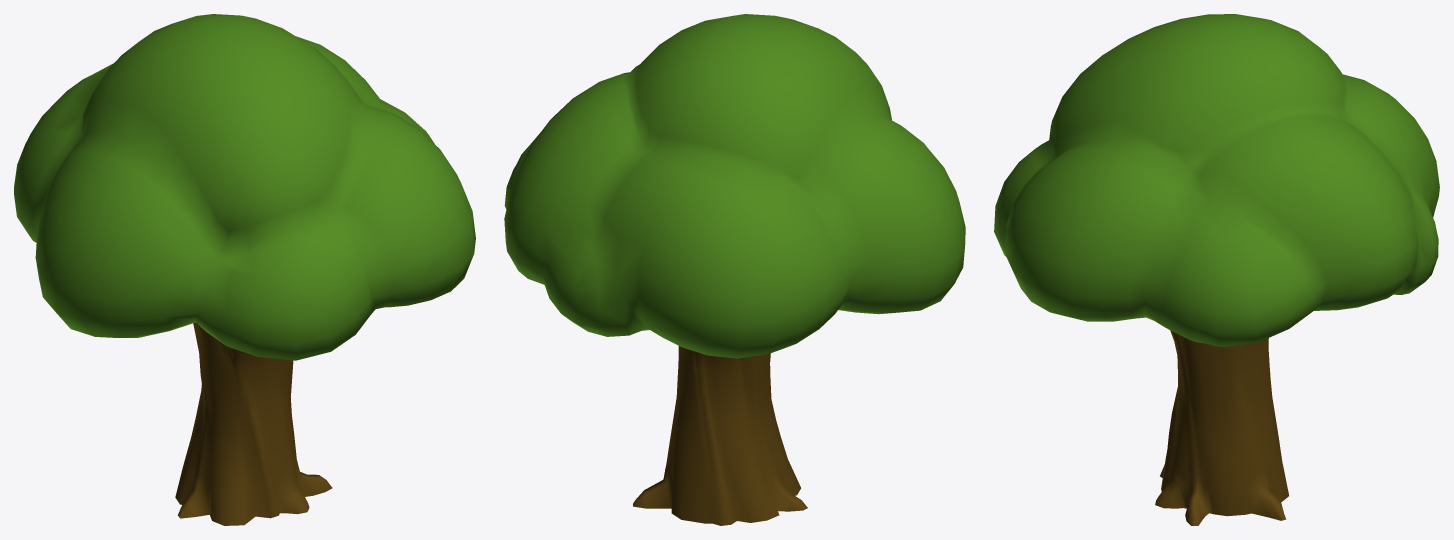
The model's file is Tree2.fbx.
3 views of the same model, side by side, from view 1: azimuth 30°, elevation 25°; view 2: azimuth 150°, elevation 25°; view 3: azimuth 270°, elevation 25° (orthographic). The views are drawn at different scales.
Parts seen in each view (by area): view 1: Tree2; view 2: Tree2; view 3: Tree2.
Part boxes in pixels (x1,y1,x2,y2): Tree2: (14,14,475,525); Tree2: (504,14,965,525); Tree2: (994,14,1439,525).
Bounding box in the file's own units: 1465 × 1615 × 1425.
